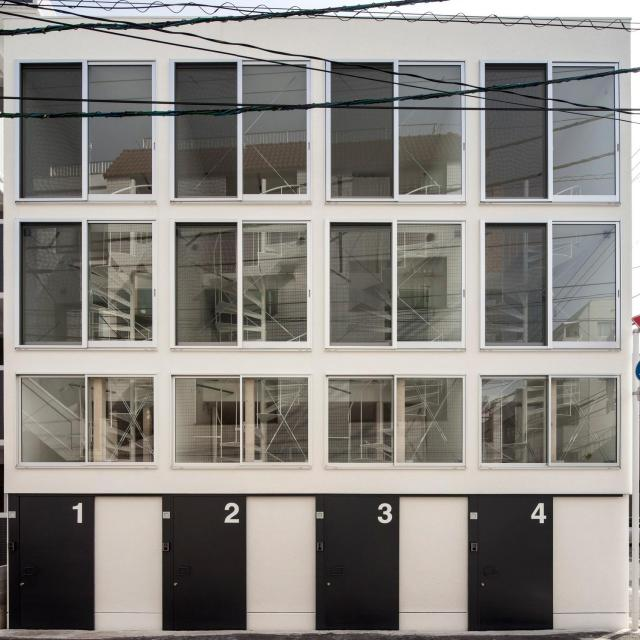door: (160, 492, 245, 632), (10, 495, 94, 634), (315, 495, 398, 629), (468, 496, 549, 630)
window: (329, 62, 464, 200), (486, 67, 621, 205), (19, 65, 151, 198), (176, 65, 305, 199), (176, 225, 308, 349), (334, 222, 462, 347), (486, 227, 619, 347), (21, 224, 151, 345), (17, 376, 154, 464), (329, 381, 465, 468), (175, 378, 305, 464), (482, 382, 618, 464)
